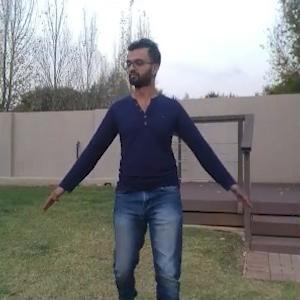land: (40, 18, 270, 299)
